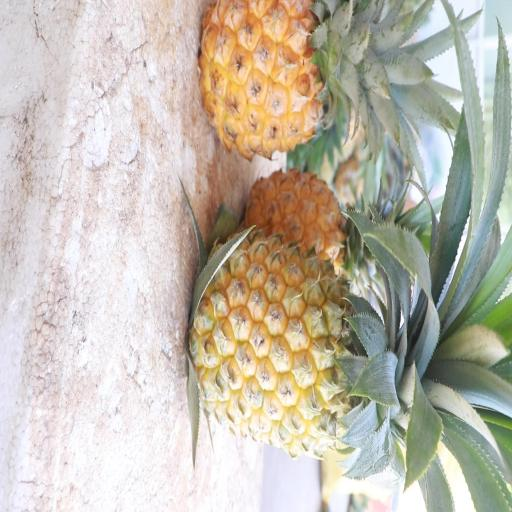Pineapple - v8 v1: (186, 231, 441, 464), (196, 0, 382, 167), (241, 164, 376, 277)
